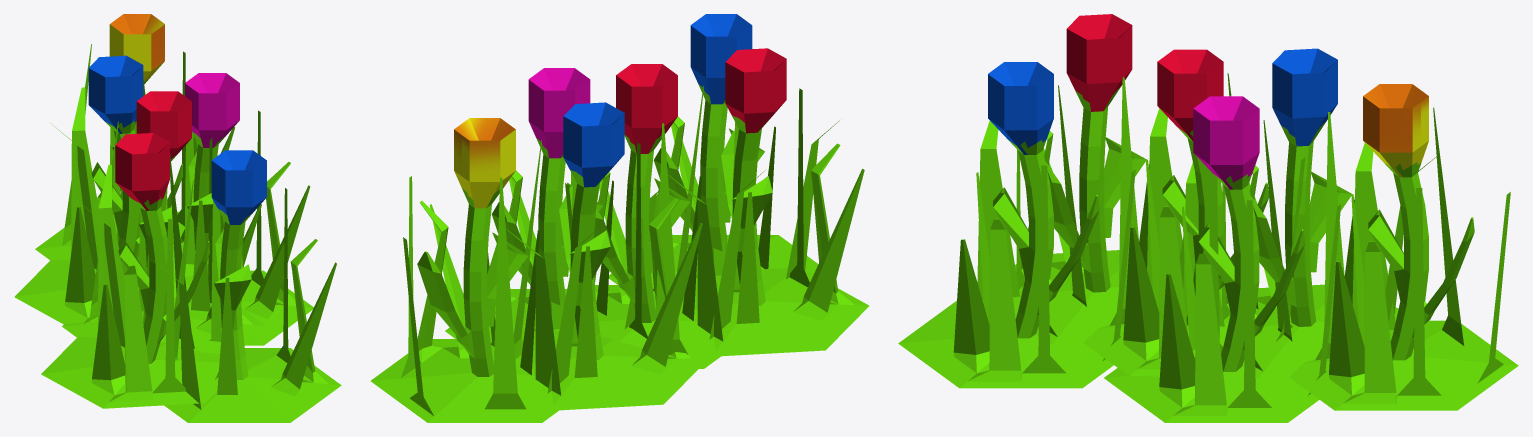
File: FLowers mixed.fbx
3 renders of one model, left to right at view 1: azimuth 30°, elevation 25°; view 2: azimuth 150°, elevation 25°; view 3: azimuth 270°, elevation 25°, orthographic. The views are drawn at different scales.
Parts seen in each view (by area): view 1: Cylinder.005, Cylinder.004, Cylinder.002, Cylinder.001, Cylinder.003, Cylinder; view 2: Cylinder, Cylinder.005, Cylinder.002, Cylinder.003, Cylinder.004, Cylinder.001; view 3: Cylinder, Cylinder.004, Cylinder.001, Cylinder.005, Cylinder.002, Cylinder.003.
Part boxes in pixels (x1,y1,x2,y2): Cylinder.005: (41,133,235,408); Cylinder.004: (153,150,341,422); Cylinder.002: (14,55,208,324); Cylinder.001: (184,73,313,345); Cylinder.003: (62,91,266,353); Cylinder: (35,14,235,276); Cylinder: (370,118,603,422); Cylinder.005: (668,48,869,356); Cylinder.002: (506,102,702,410); Cylinder.003: (534,64,765,368); Cylinder.004: (609,14,839,292); Cylinder.001: (445,68,678,346); Cylinder: (1289,84,1518,410); Cylinder.004: (898,62,1135,388); Cylinder.001: (1104,96,1341,422); Cylinder.005: (982,14,1184,344); Cylinder.002: (1222,48,1436,378); Cylinder.003: (1083,49,1305,376).
Bounding box in the file's own units: 314 × 248 × 500.
